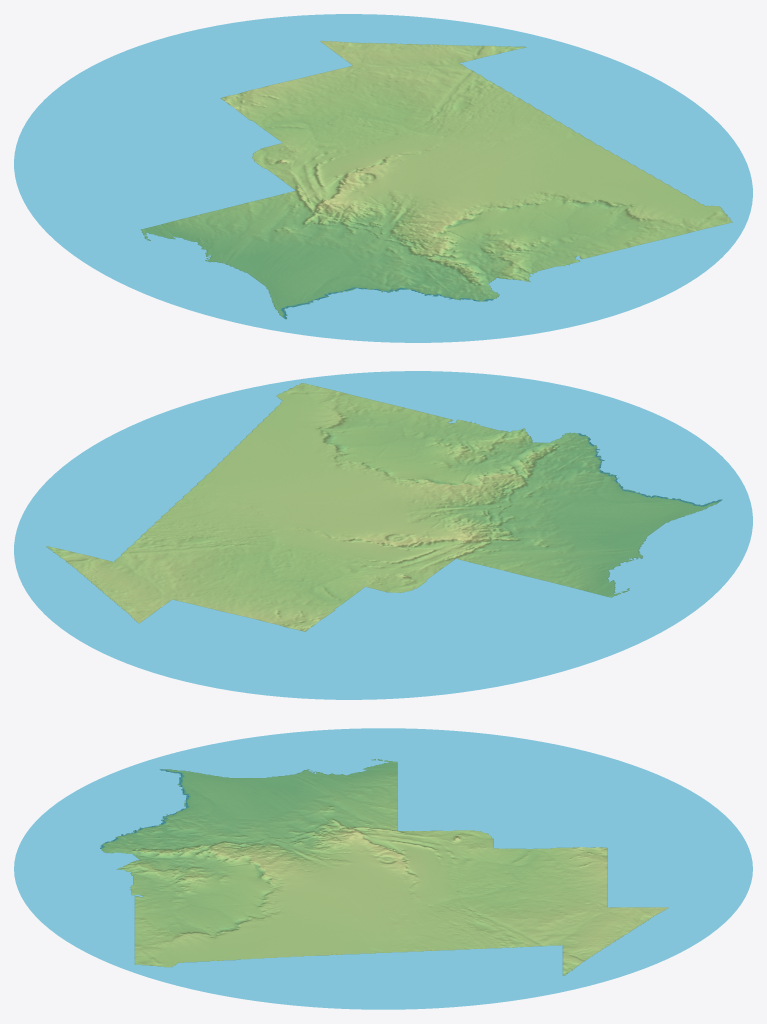
The model's file is MRT-terrain.glb.
3 views of the same model, one above another, from view 1: azimuth 30°, elevation 25°; view 2: azimuth 150°, elevation 25°; view 3: azimuth 270°, elevation 25° (orthographic). The views are drawn at different scales.
Visible parts, largest first — view 1: Relevo com hidrografia; view 2: Relevo com hidrografia; view 3: Relevo com hidrografia.
Boxes of the visible parts, x1,y1,x2,y2 form: Relevo com hidrografia: [14, 14, 752, 342]; Relevo com hidrografia: [14, 371, 752, 699]; Relevo com hidrografia: [14, 728, 752, 1009].
Bounding box in the file's own units: 1.88 × 0.0109 × 2.08.
Materials: 2 (1 with a texture image).
